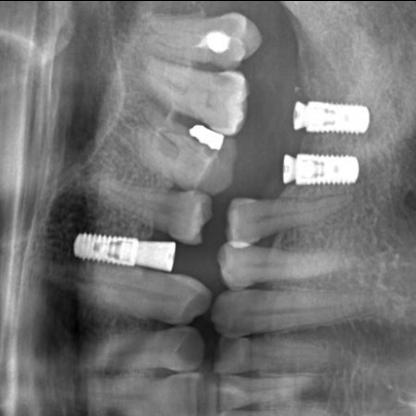ITI: (291, 146, 359, 188), (302, 97, 372, 135), (70, 229, 140, 265)
